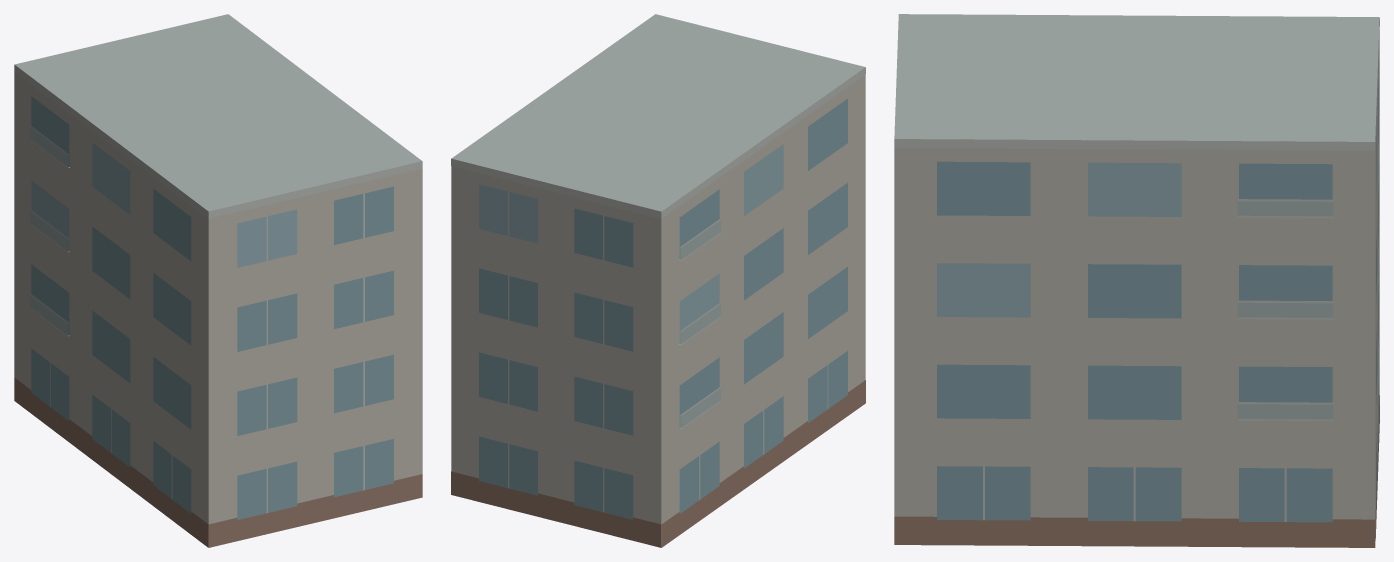
File: survey-upis-32858889.glb
The picture shows the model from 3 angles, left to right: view 1: azimuth 30°, elevation 25°; view 2: azimuth 150°, elevation 25°; view 3: azimuth 270°, elevation 25°; orthographic projection. The views are drawn at different scales.
Parts seen in each view (by area): view 1: survey-upis-32858889.tmp; view 2: survey-upis-32858889.tmp; view 3: survey-upis-32858889.tmp.
Boxes of the visible parts, x1,y1,x2,y2 form: survey-upis-32858889.tmp: [14, 14, 422, 547]; survey-upis-32858889.tmp: [451, 14, 865, 547]; survey-upis-32858889.tmp: [894, 14, 1379, 547].
Bounding box in the file's own units: 7.6 × 11.2 × 12.15.
